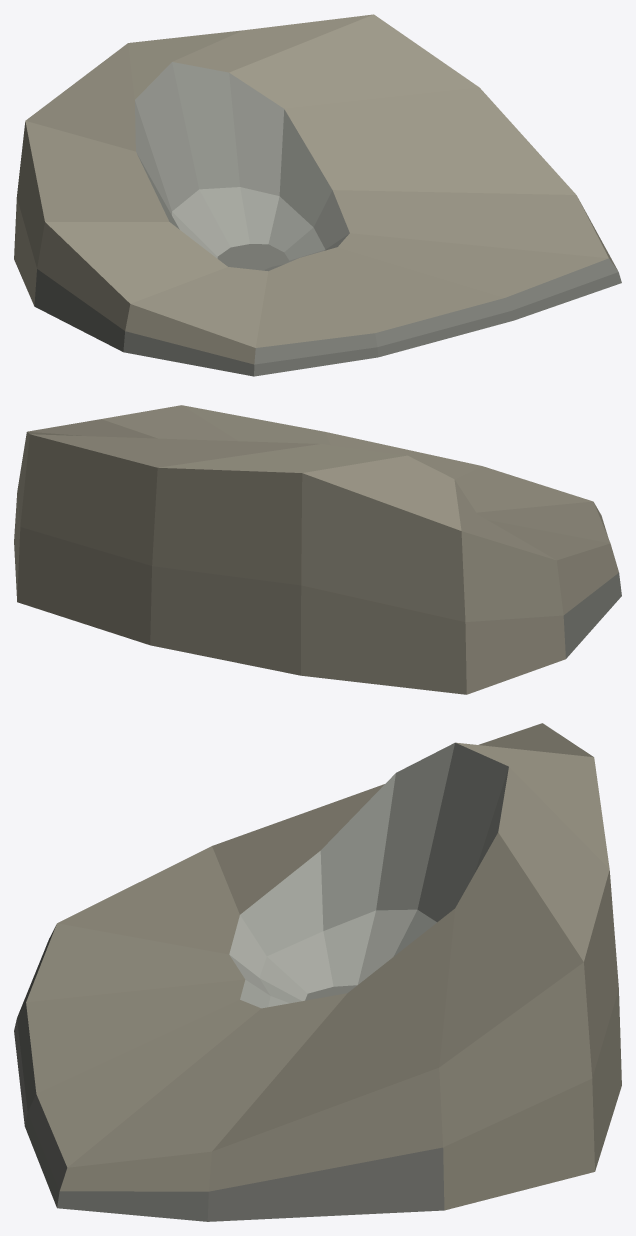
3 renders of one model, top to bottom at view 1: azimuth 30°, elevation 25°; view 2: azimuth 150°, elevation 25°; view 3: azimuth 270°, elevation 25°, orthographic. The views are drawn at different scales.
Visible parts, largest first — view 1: WholeIrregularBlindDepressionTerrain; view 2: WholeIrregularBlindDepressionTerrain; view 3: WholeIrregularBlindDepressionTerrain.
Part boxes in pixels (x1,y1,x2,y2): WholeIrregularBlindDepressionTerrain: (14,14,621,376); WholeIrregularBlindDepressionTerrain: (14,405,621,694); WholeIrregularBlindDepressionTerrain: (14,723,621,1221).
Bounding box in the file's own units: 7.3 × 2.5 × 5.65.
